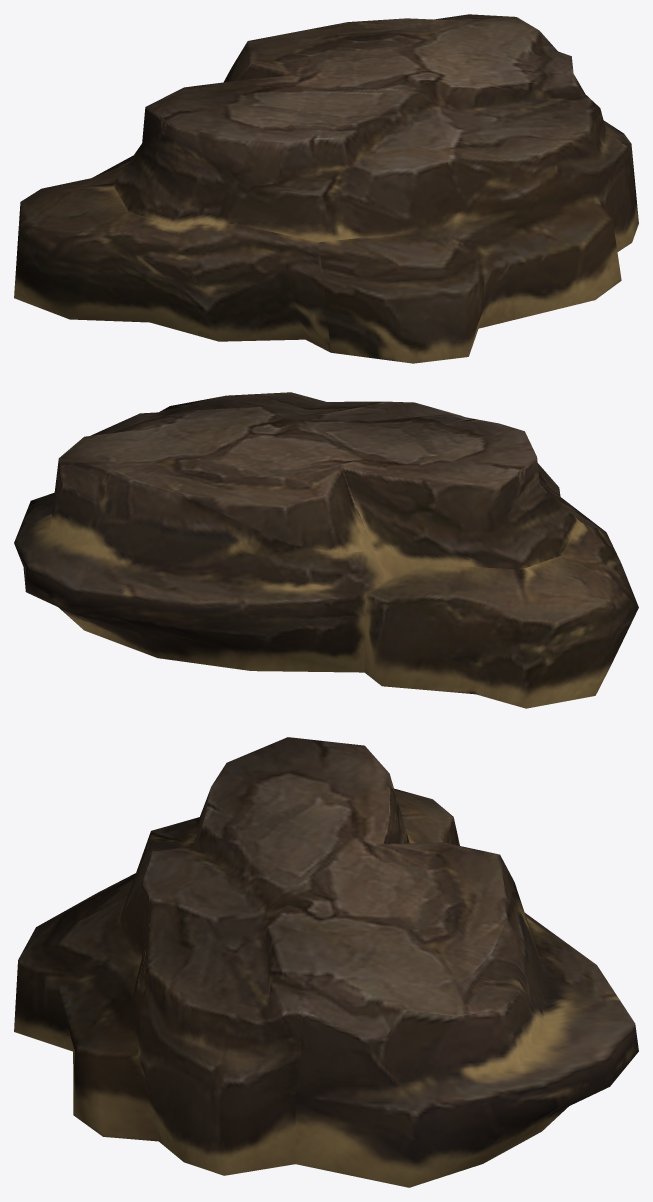
The picture shows the model from 3 angles, top to bottom: view 1: azimuth 30°, elevation 25°; view 2: azimuth 150°, elevation 25°; view 3: azimuth 270°, elevation 25°; orthographic projection. The views are drawn at different scales.
Visible parts, largest first — view 1: 293741; view 2: 293741; view 3: 293741.
Part boxes in pixels (x1,y1,x2,y2): 293741: (14, 14, 638, 363); 293741: (14, 392, 638, 708); 293741: (14, 737, 638, 1187).
Bounding box in the file's own units: 400 × 120 × 336.
